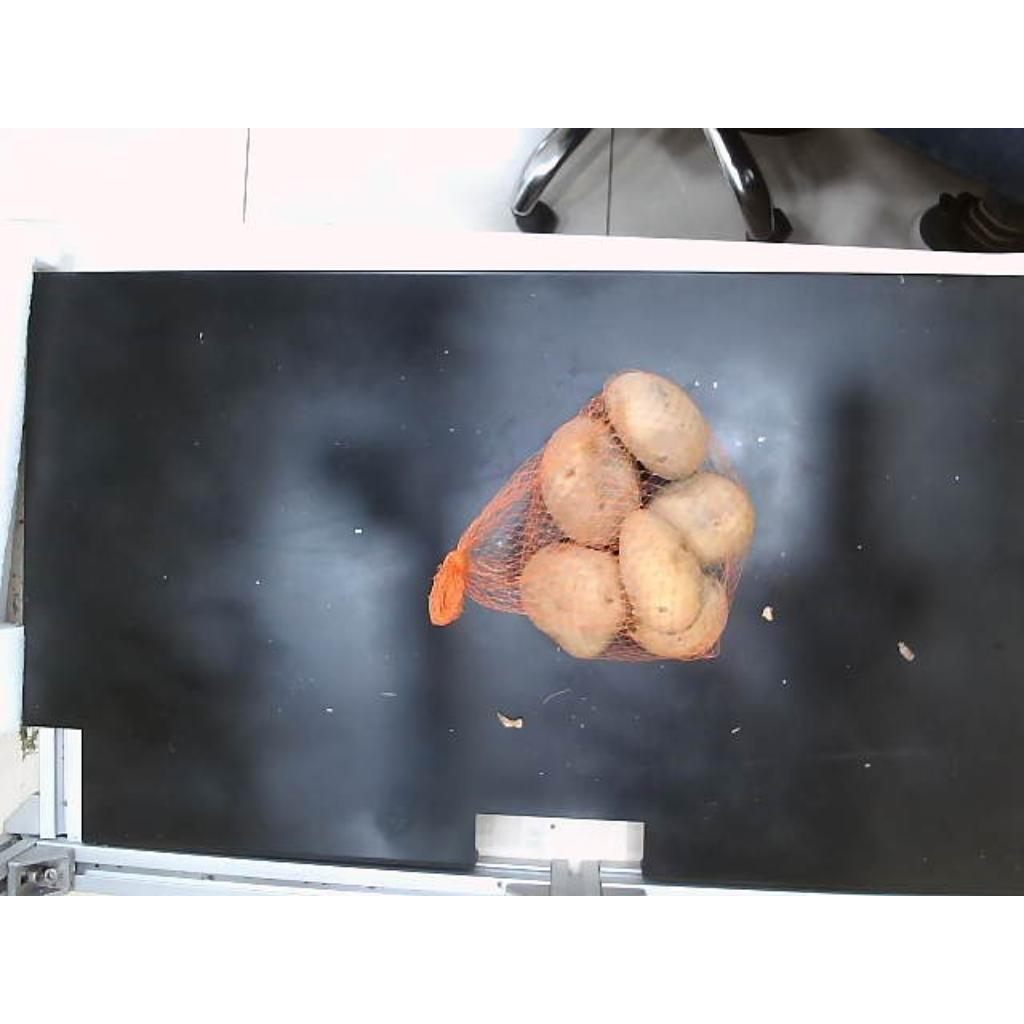potato: (538, 416, 640, 547), (522, 542, 626, 657), (604, 370, 708, 479), (620, 510, 702, 633), (650, 472, 756, 564), (630, 574, 728, 659)
